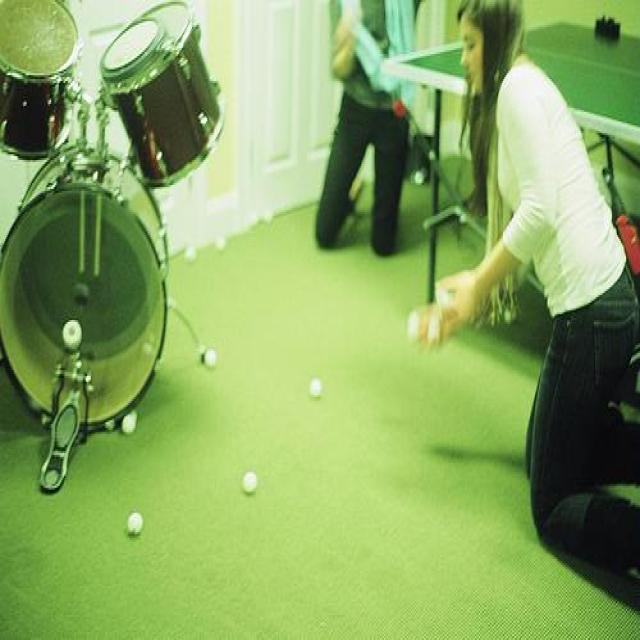ping-pong-ball: (126, 510, 145, 536), (408, 310, 420, 340), (242, 472, 258, 494), (121, 412, 136, 434), (436, 286, 452, 306), (204, 348, 218, 369), (428, 318, 440, 342), (184, 242, 197, 263), (310, 379, 324, 397), (215, 232, 227, 252), (247, 210, 258, 228), (414, 169, 426, 185), (263, 209, 275, 224)
